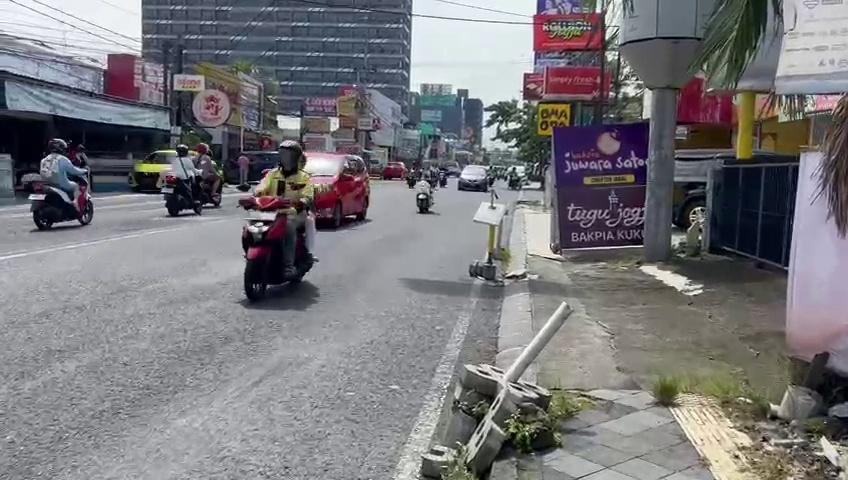helm: (275, 137, 307, 175)
riding: (235, 137, 329, 309)
